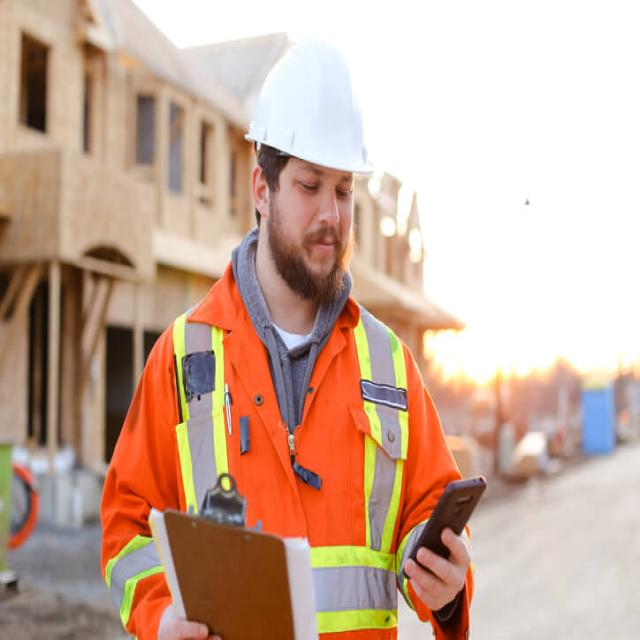Hard Hat: (240, 27, 376, 176)
Reflective Vest: (94, 287, 482, 640)
